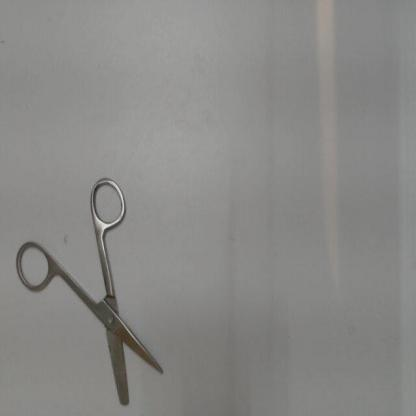Dressing Scissors: (8, 169, 172, 412)
